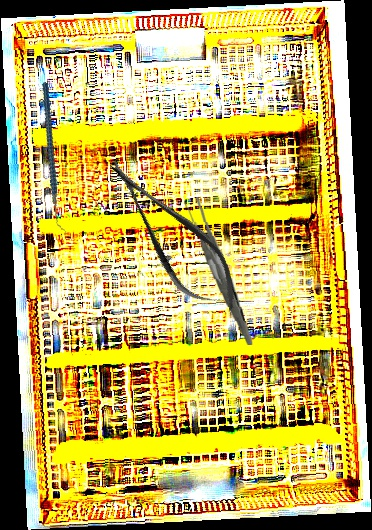Chopper: (8, 81, 102, 235)
Dressing Forceps: (183, 194, 254, 349)
Micro Scissor: (91, 143, 255, 328)
